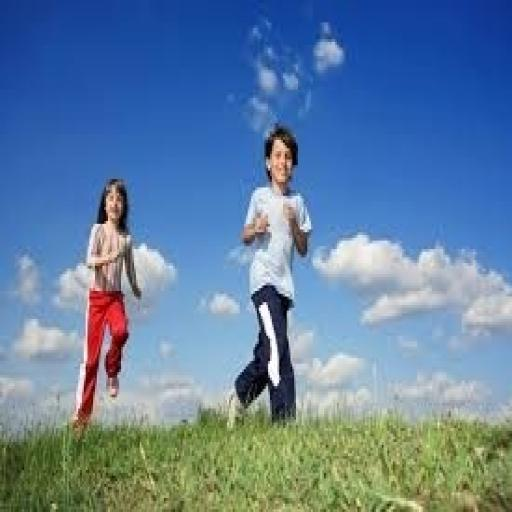running: (225, 120, 315, 431), (67, 174, 145, 440)
